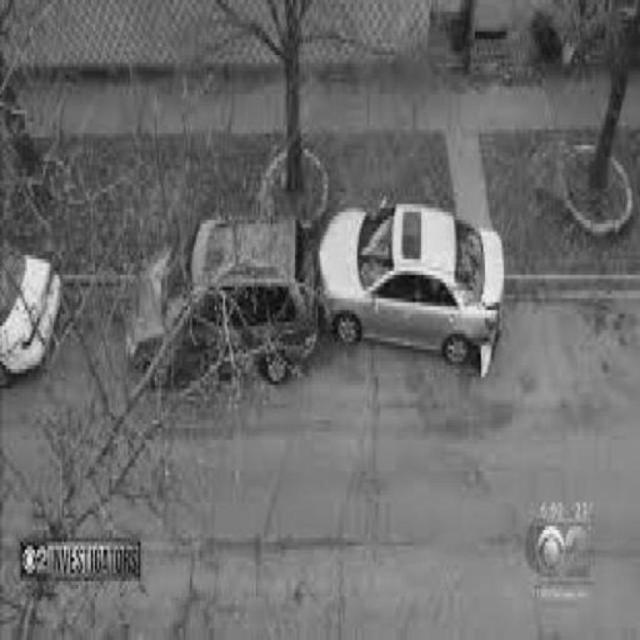accident: (130, 206, 504, 384)
vehicle: (1, 249, 63, 383)
